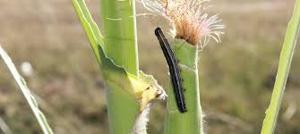fallarmy_worm: (151, 25, 194, 116)
